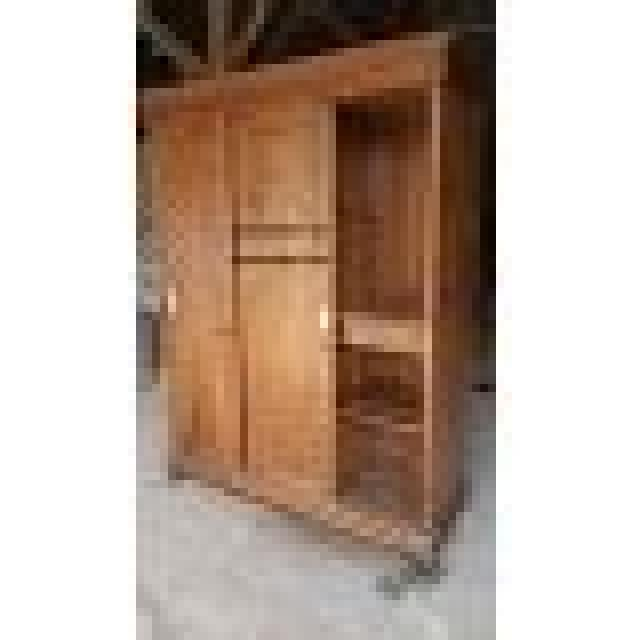Closet: (156, 30, 487, 574)
